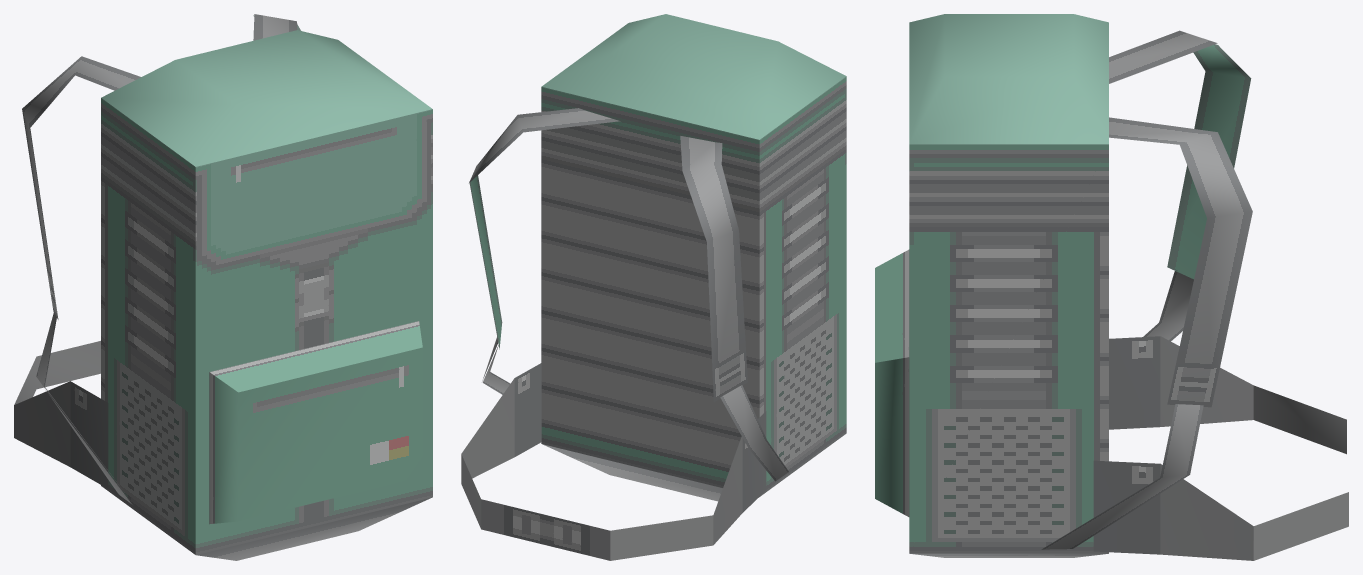
The model's file is 00c3_Backpack.glb.
3 views of the same model, side by side, from view 1: azimuth 30°, elevation 25°; view 2: azimuth 150°, elevation 25°; view 3: azimuth 270°, elevation 25° (orthographic). The views are drawn at different scales.
Visible parts, largest first — view 1: part_0; view 2: part_0; view 3: part_0.
Part boxes in pixels (bbox=[...]): part_0: bbox=[14, 14, 432, 560]; part_0: bbox=[461, 14, 846, 560]; part_0: bbox=[875, 14, 1348, 560].
Size of the model in its own units: 0.346 by 0.5 by 0.4463.
Materials: 1 (1 with a texture image).
